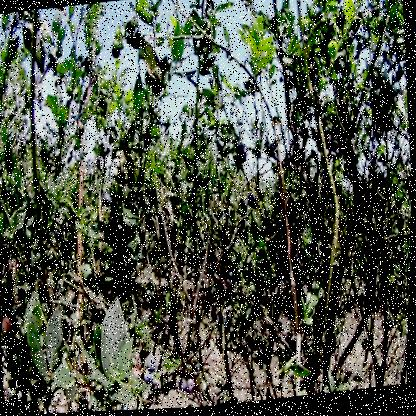intermediate: (2, 317, 13, 336), (189, 380, 198, 394)
mature: (145, 369, 156, 387), (149, 357, 159, 376), (103, 195, 113, 210), (181, 379, 190, 395), (123, 403, 134, 411)
young: (201, 381, 210, 394)
